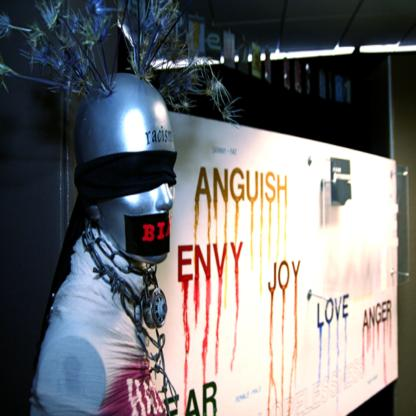Helmet: (36, 67, 180, 342)
